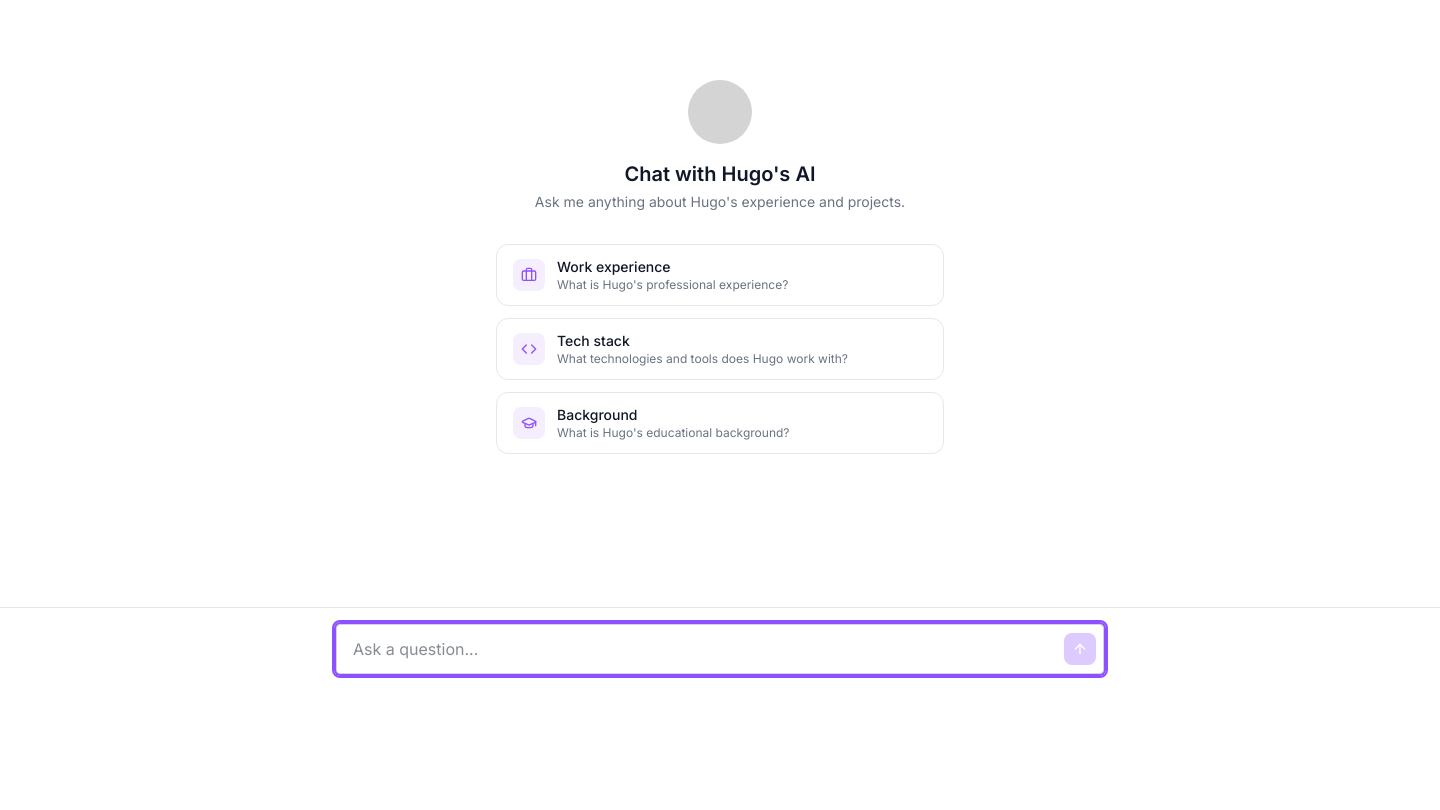
ChatPage › sends message when clicking a suggestion card
Step 1. Click the text "Work experience" → coordinates (614, 266), box [557,258,671,275]
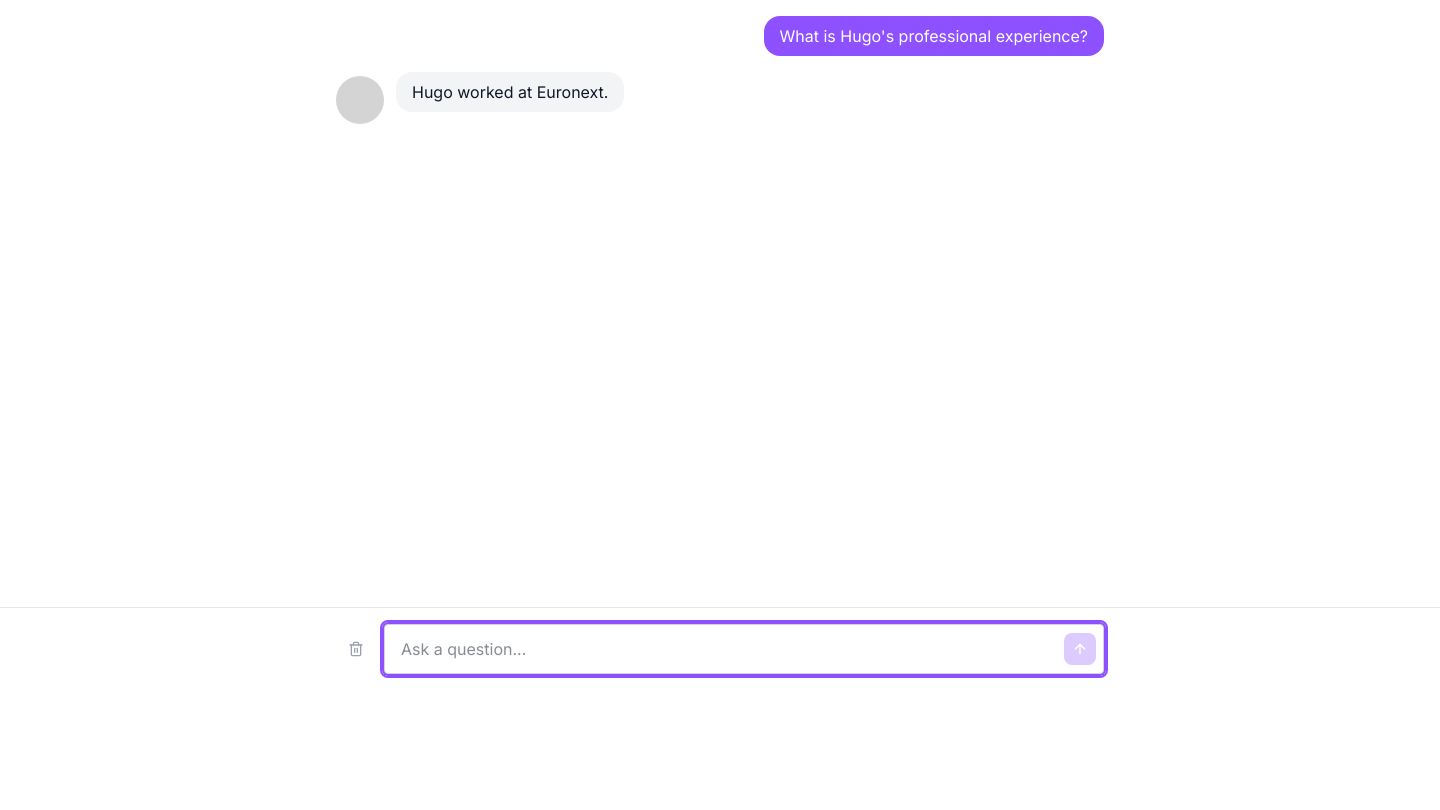
expect the text "Hugo worked at Euronext." is shown: met, box [396,72,624,112]
